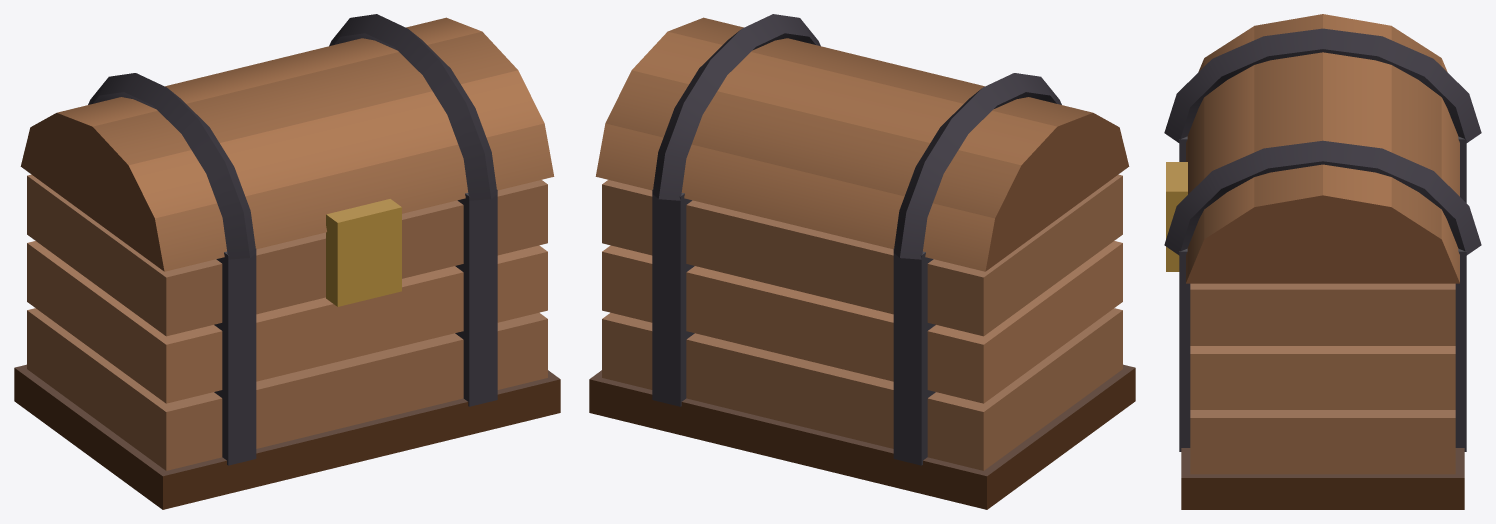
The model's file is chest.glb.
3 views of the same model, side by side, from view 1: azimuth 30°, elevation 25°; view 2: azimuth 150°, elevation 25°; view 3: azimuth 270°, elevation 25° (orthographic). The views are drawn at different scales.
Parts seen in each view (by area): view 1: chest; view 2: chest; view 3: chest.
Part boxes in pixels (x1,y1,x2,y2): chest: (14, 14, 560, 509); chest: (589, 14, 1135, 509); chest: (1164, 14, 1481, 509).
Size of the model in its own units: 0.99 by 0.83 by 0.7175.
